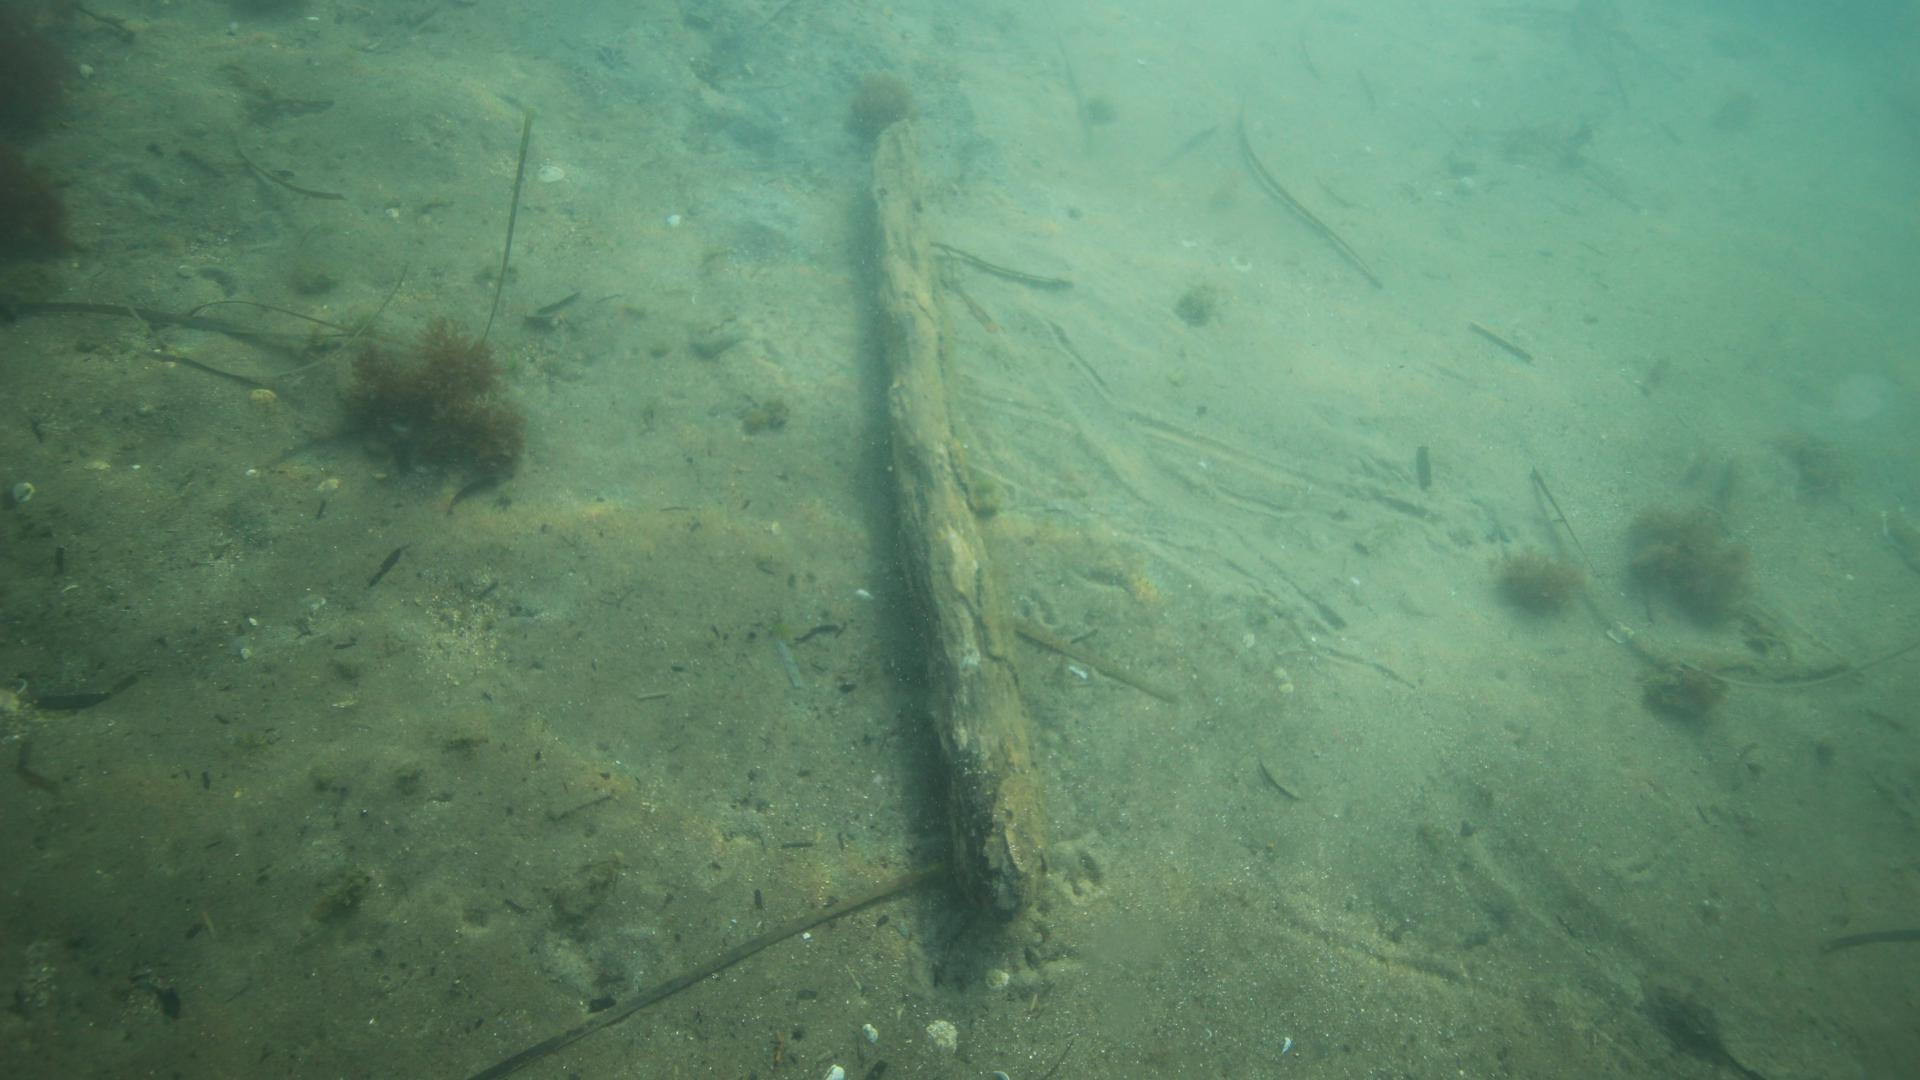wood: (866, 115, 1051, 926)
